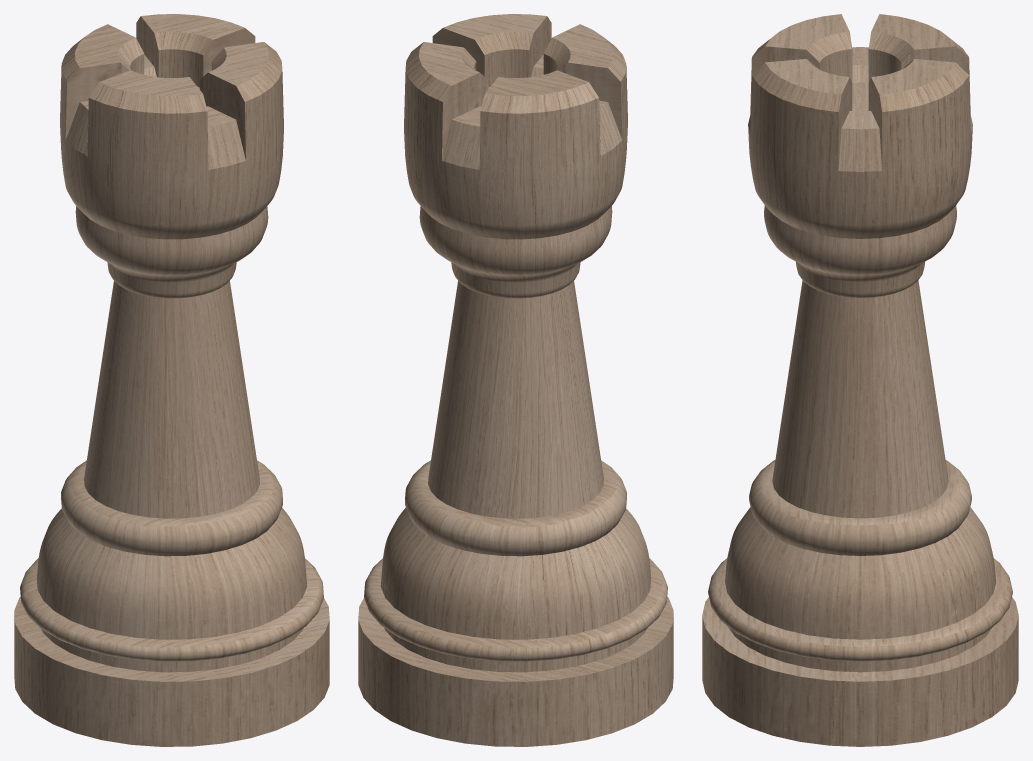
File: white-rook.glb
3 views of the same model, side by side, from view 1: azimuth 30°, elevation 25°; view 2: azimuth 150°, elevation 25°; view 3: azimuth 270°, elevation 25° (orthographic).
Visible parts, largest first — view 1: ScacchiBianchi_Torre.002_white_0; view 2: ScacchiBianchi_Torre.002_white_0; view 3: ScacchiBianchi_Torre.002_white_0.
Boxes of the visible parts, left/top/right/bottom form: ScacchiBianchi_Torre.002_white_0: left=14, top=14, right=329, bottom=746; ScacchiBianchi_Torre.002_white_0: left=358, top=14, right=673, bottom=746; ScacchiBianchi_Torre.002_white_0: left=702, top=14, right=1018, bottom=746.
Bounding box in the file's own units: 2.75 × 6 × 2.75.
Materials: 1 (1 with a texture image).
